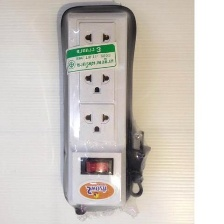three_eye_plug: (60, 6, 132, 213)
